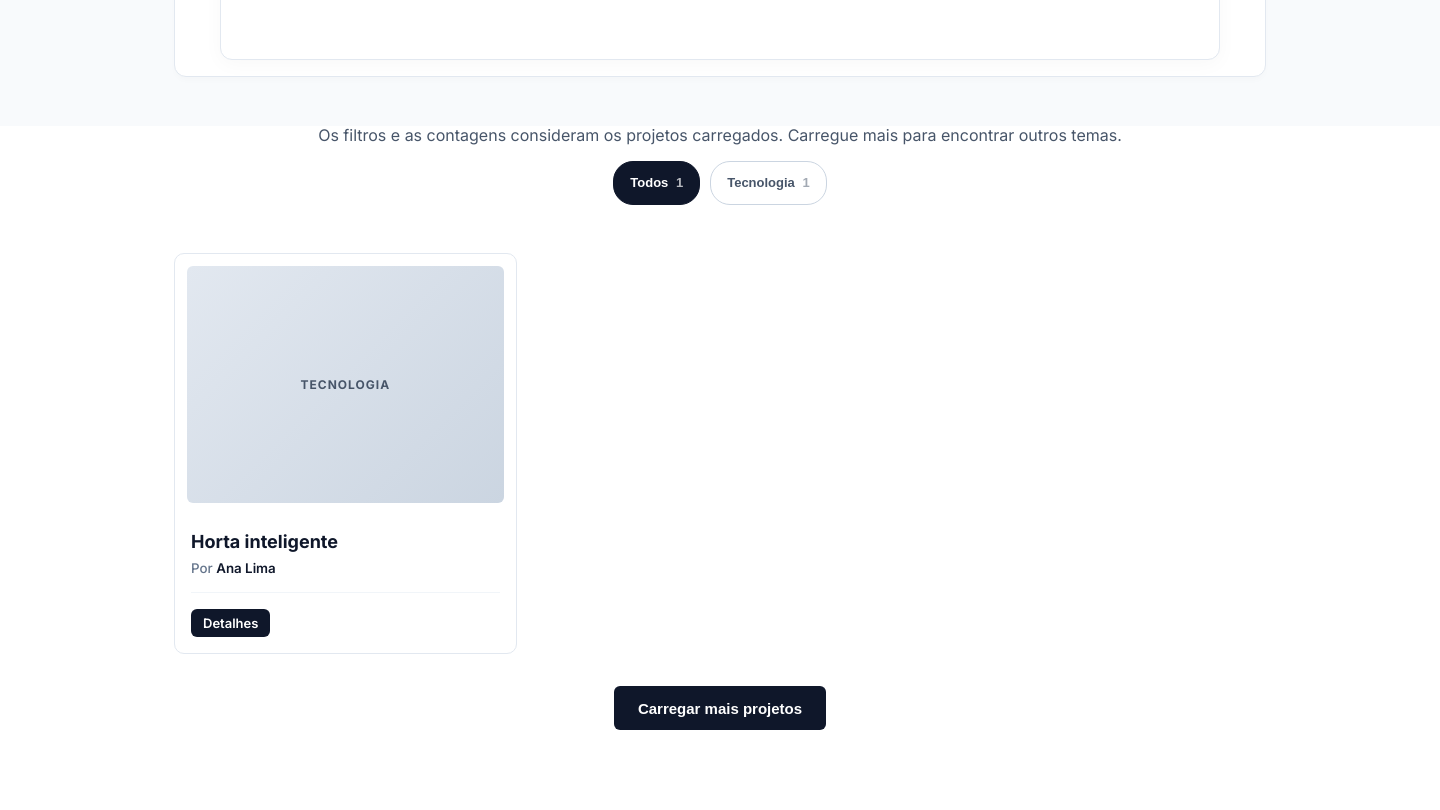
Projetos › preserva os projetos carregados e tenta a mesma página após falha
(page scrolled)
Click the button "Carregar mais projetos".
click(720, 708)  # box [614,686,826,730]
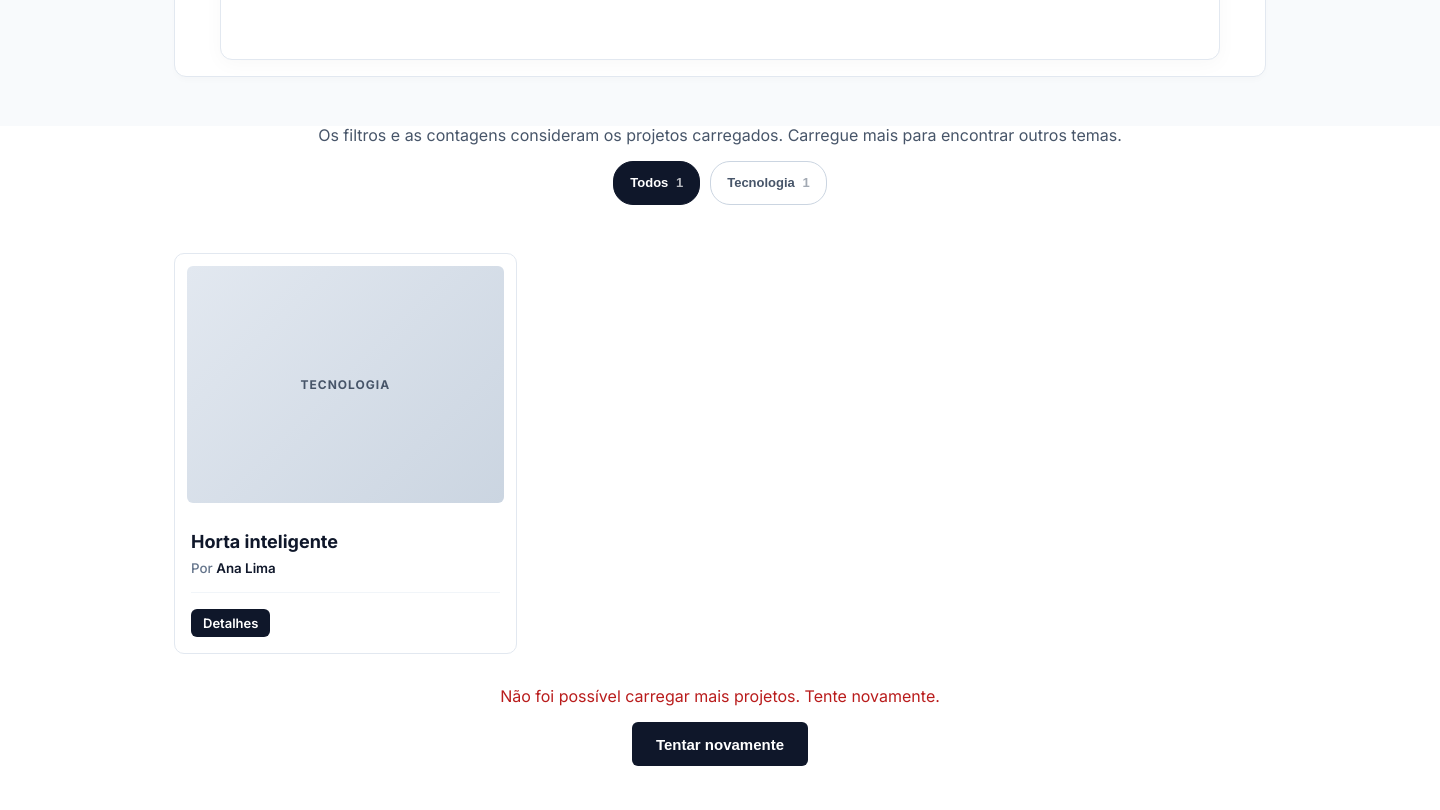
Check: the heading "Horta inteligente" is shown, box [191,531,338,552]
Check: the message shows "Não foi possível carregar mais projetos.", box [500,686,940,706]
Click the button "Tentar novamente".
click(720, 744)  # box [632,722,808,766]
(page scrolled)
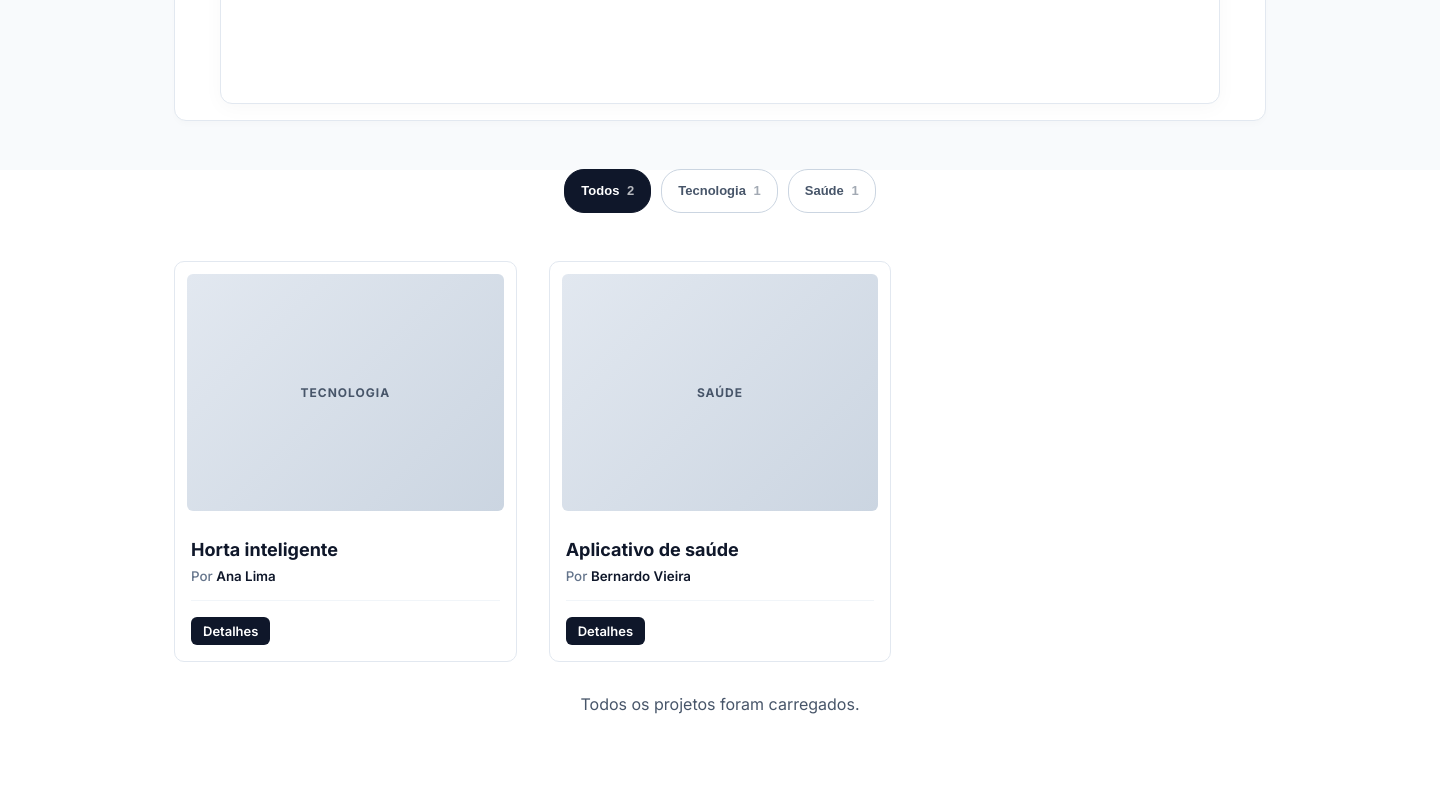
Check: the heading "Horta inteligente" is shown, box [191,539,338,560]
Check: the heading "Aplicativo de saúde" is shown, box [566,539,739,560]
